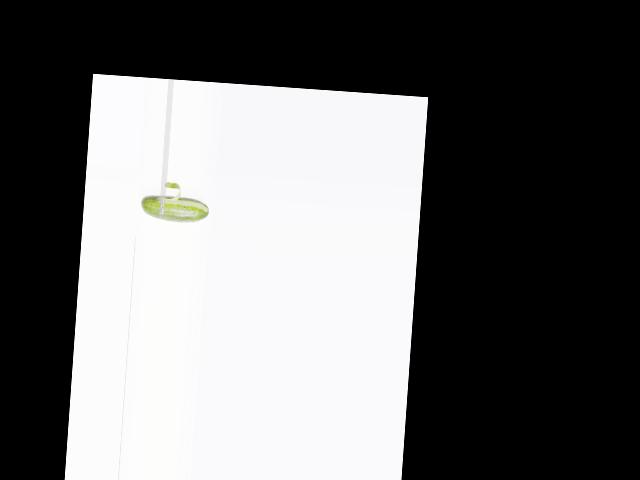cucumber: (139, 193, 209, 223)
